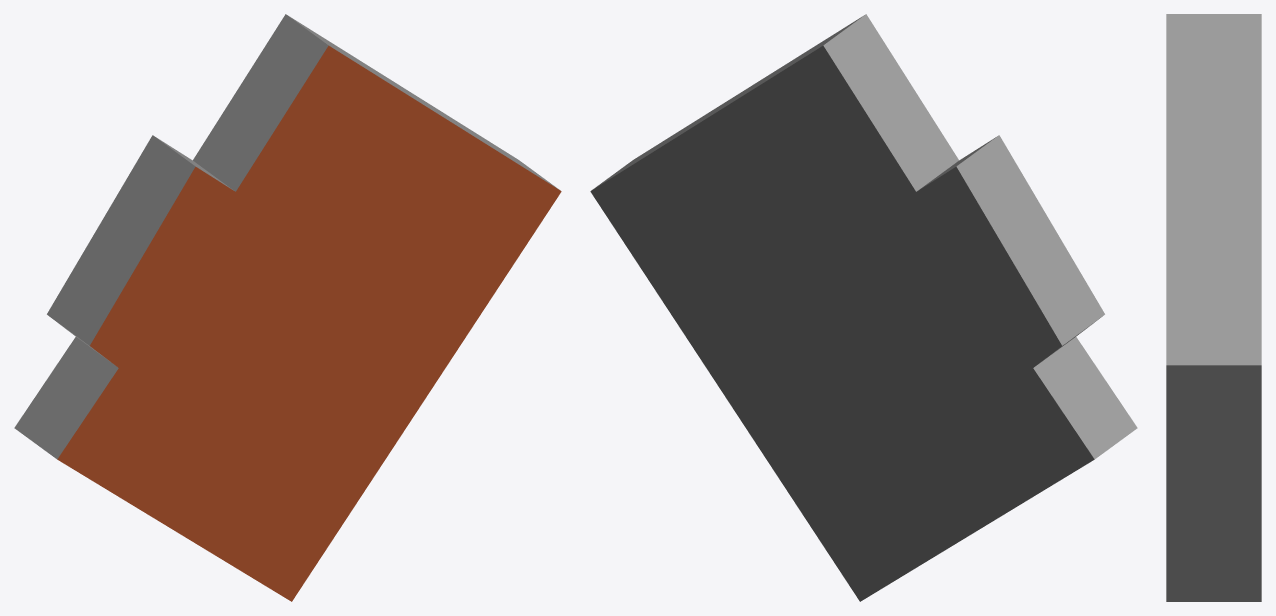
The model's file is construction_0054_assumed_A_Estufa_h6m.obj.
3 views of the same model, side by side, from view 1: azimuth 30°, elevation 25°; view 2: azimuth 150°, elevation 25°; view 3: azimuth 270°, elevation 25° (orthographic). The views are drawn at different scales.
Parts seen in each view (by area): view 1: construction_0054_assumed_A_Estufa; view 2: construction_0054_assumed_A_Estufa; view 3: construction_0054_assumed_A_Estufa.
Part boxes in pixels (bbox=[...]): construction_0054_assumed_A_Estufa: bbox=[14, 14, 561, 601]; construction_0054_assumed_A_Estufa: bbox=[590, 14, 1137, 601]; construction_0054_assumed_A_Estufa: bbox=[1166, 14, 1261, 601].
Size of the model in its own units: 40.63 by 42.13 by 6.
